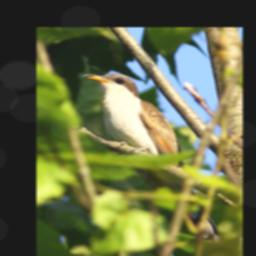Cuckoo: (79, 69, 225, 245)
